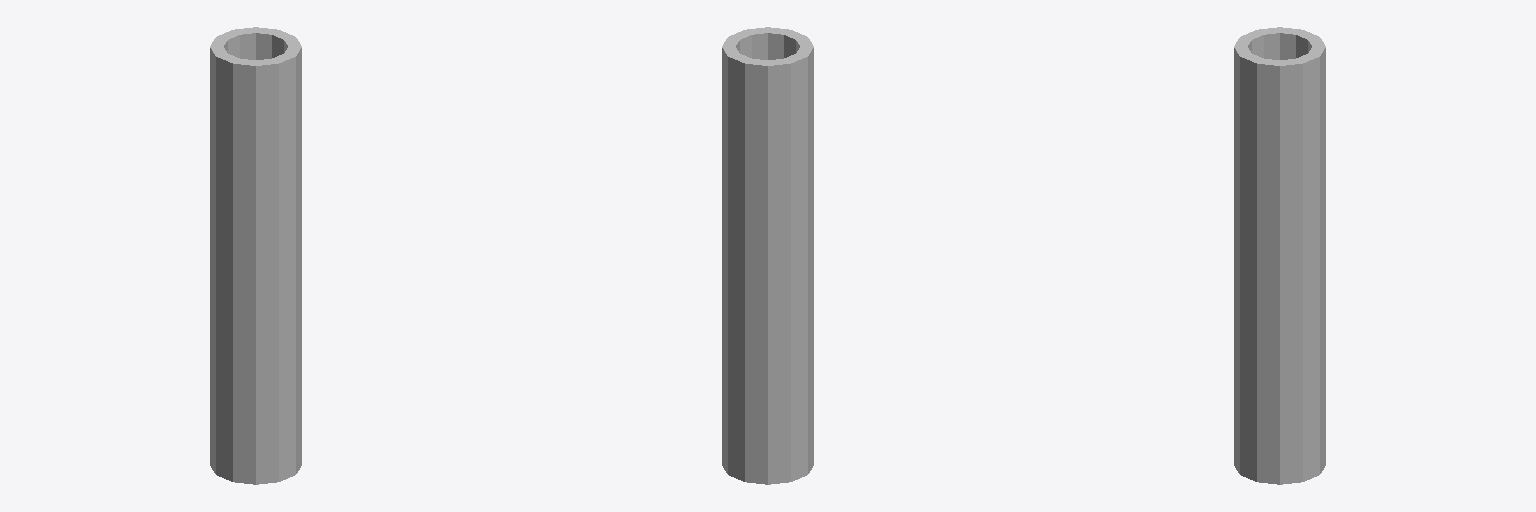
The model's file is Model_Pipe_10.obj.
3 views of the same model, side by side, from view 1: azimuth 30°, elevation 25°; view 2: azimuth 150°, elevation 25°; view 3: azimuth 270°, elevation 25° (orthographic).
Parts seen in each view (by area): view 1: Pipe final; view 2: Pipe final; view 3: Pipe final.
Part boxes in pixels (bbox=[...]): Pipe final: bbox=[210, 27, 301, 484]; Pipe final: bbox=[722, 27, 813, 484]; Pipe final: bbox=[1234, 27, 1325, 484].
Size of the model in its own units: 2.57 by 12.84 by 2.57.